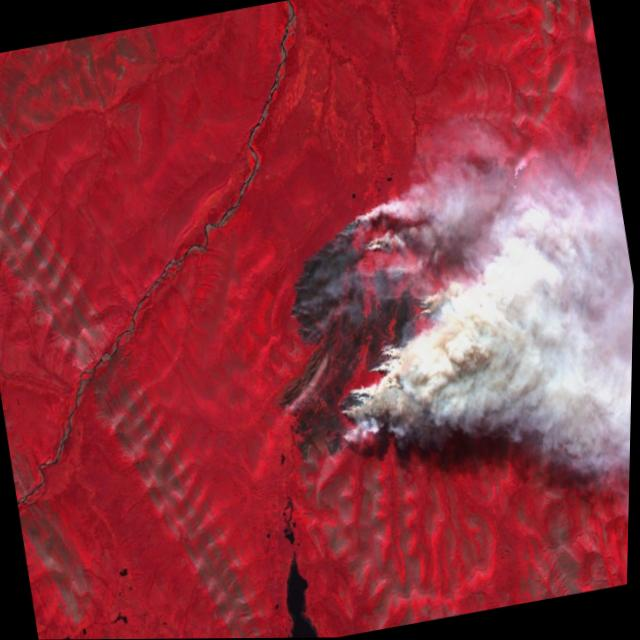fire: (270, 197, 479, 444)
